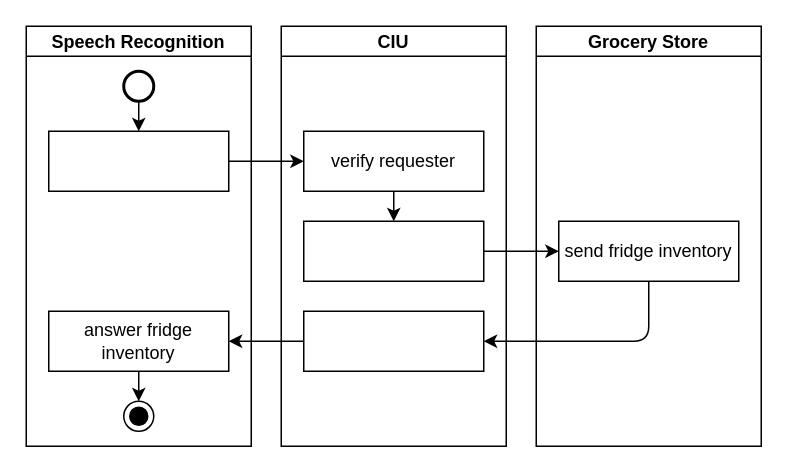
The diagram is 788 pixels wide and 473 high, and some of its shapes have lost their labels. Each missing label, with the centre of its shape:
"ask fridge inventory" goes at [138,160].
"transmit inventory list" goes at [393,340].
"transmit request" goes at [393,250].
